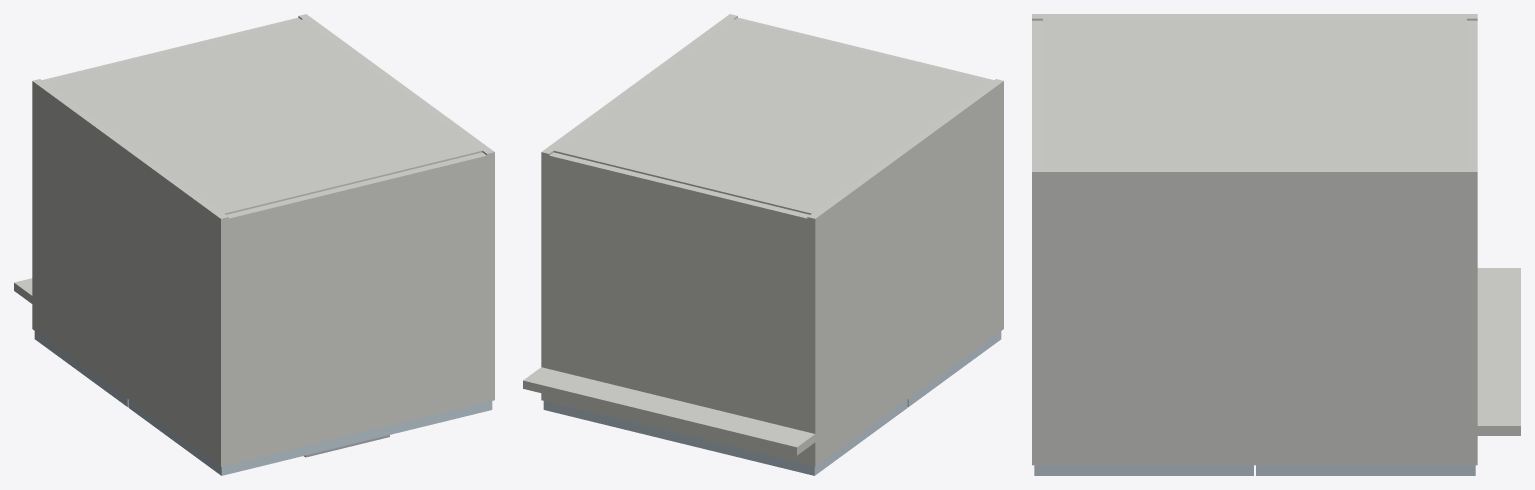
The model's file is M04_nightstand.obj.
3 views of the same model, side by side, from view 1: azimuth 30°, elevation 25°; view 2: azimuth 150°, elevation 25°; view 3: azimuth 270°, elevation 25° (orthographic). The views are drawn at different scales.
Parts seen in each view (by area): view 1: M04_nightstand_Tampo_Interno, M04_nightstand_Lateral_Esquerda, M04_nightstand_Fundo, M04_nightstand_Lateral_Direita, M04_nightstand_Frente_Gaveta_2, M04_nightstand_Base, M04_nightstand_Frente_Gaveta_1; view 2: M04_nightstand_Base, M04_nightstand_Lateral_Esquerda, M04_nightstand_Fundo, M04_nightstand_Rodape, M04_nightstand_Lateral_Direita, M04_nightstand_Frente_Gaveta_1, M04_nightstand_Tampo_Interno, M04_nightstand_Frente_Gaveta_2; view 3: M04_nightstand_Lateral_Direita, M04_nightstand_Fundo, M04_nightstand_Rodape, M04_nightstand_Frente_Gaveta_1, M04_nightstand_Frente_Gaveta_2, M04_nightstand_Lateral_Esquerda, M04_nightstand_Base, M04_nightstand_Tampo_Interno.
Part boxes in pixels (x1,y1,x2,y2): M04_nightstand_Tampo_Interno: (226, 152, 486, 464); M04_nightstand_Lateral_Esquerda: (32, 79, 228, 466); M04_nightstand_Fundo: (45, 19, 482, 214); M04_nightstand_Lateral_Direita: (298, 14, 494, 401); M04_nightstand_Frente_Gaveta_2: (128, 400, 492, 475); M04_nightstand_Base: (42, 17, 300, 81); M04_nightstand_Frente_Gaveta_1: (34, 331, 128, 406); M04_nightstand_Base: (549, 152, 809, 464); M04_nightstand_Lateral_Esquerda: (807, 79, 1003, 466); M04_nightstand_Fundo: (553, 19, 990, 214); M04_nightstand_Rodape: (523, 367, 815, 455); M04_nightstand_Lateral_Direita: (541, 14, 737, 401); M04_nightstand_Frente_Gaveta_1: (543, 400, 907, 475); M04_nightstand_Tampo_Interno: (735, 17, 993, 82); M04_nightstand_Frente_Gaveta_2: (907, 331, 1001, 407); M04_nightstand_Lateral_Direita: (1032, 167, 1477, 465); M04_nightstand_Fundo: (1043, 18, 1466, 167); M04_nightstand_Rodape: (1477, 268, 1520, 435); M04_nightstand_Frente_Gaveta_1: (1256, 465, 1475, 475); M04_nightstand_Frente_Gaveta_2: (1034, 465, 1253, 475); M04_nightstand_Lateral_Esquerda: (1032, 14, 1477, 20); M04_nightstand_Base: (1467, 20, 1477, 167); M04_nightstand_Tampo_Interno: (1032, 20, 1042, 167).
Size of the model in its own units: 520 by 488 by 680.
